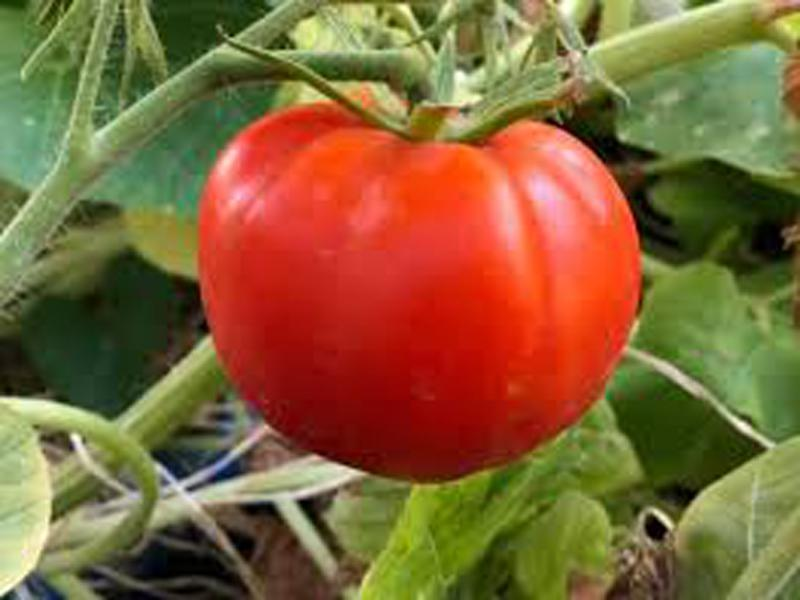Tomato: (194, 103, 641, 478)
